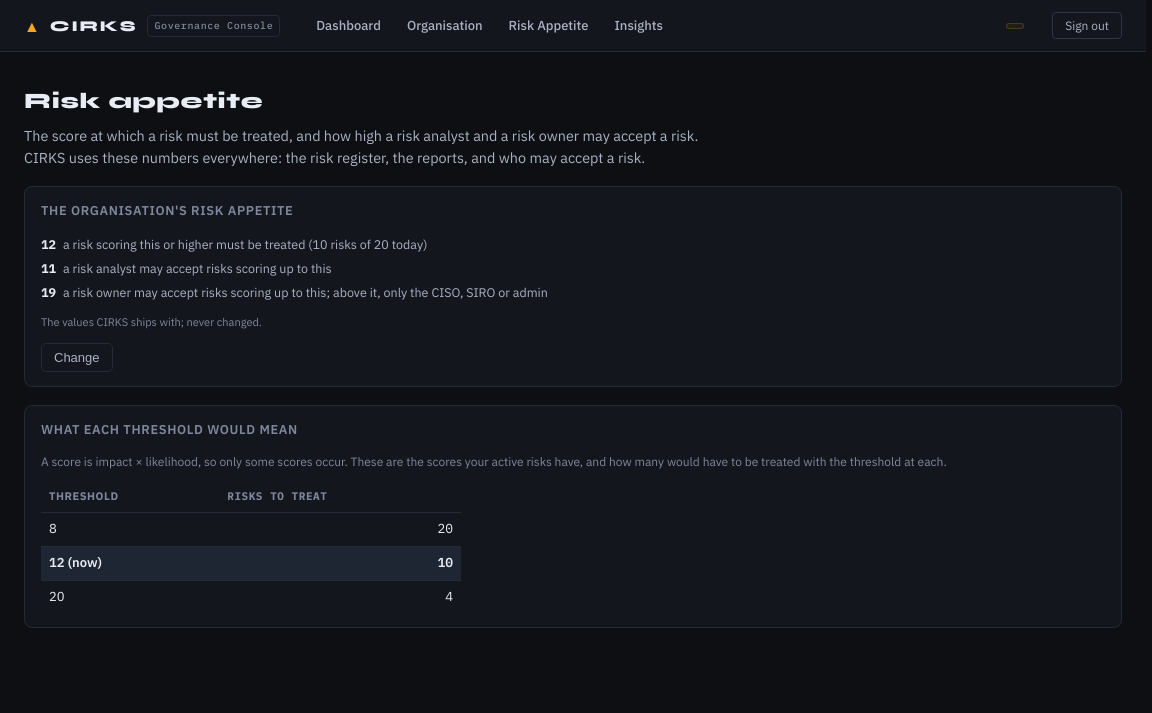
Test case: Risk appetite › says what a new threshold would mean, and warns of risks marked no action required
Click the button "Change" at (77, 358), box left=41, top=344, right=112, bottom=372
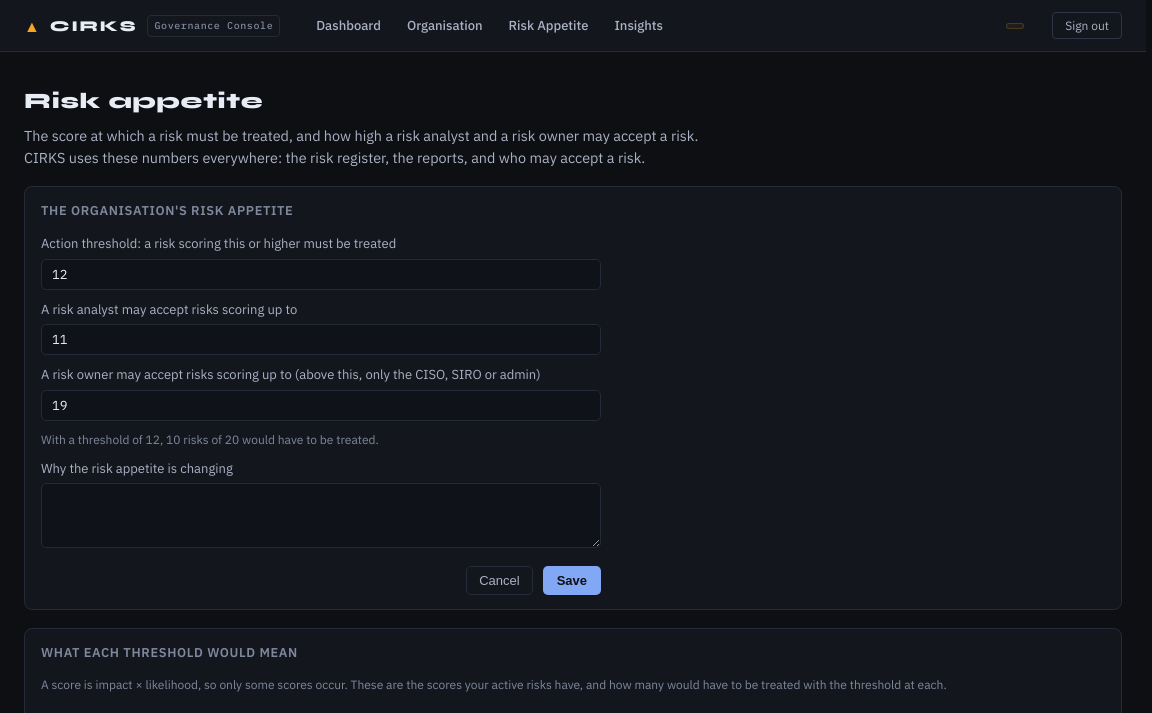
Replace the text in the number field labelled "Action threshold" with "8" at (321, 274), box left=41, top=259, right=601, bottom=290
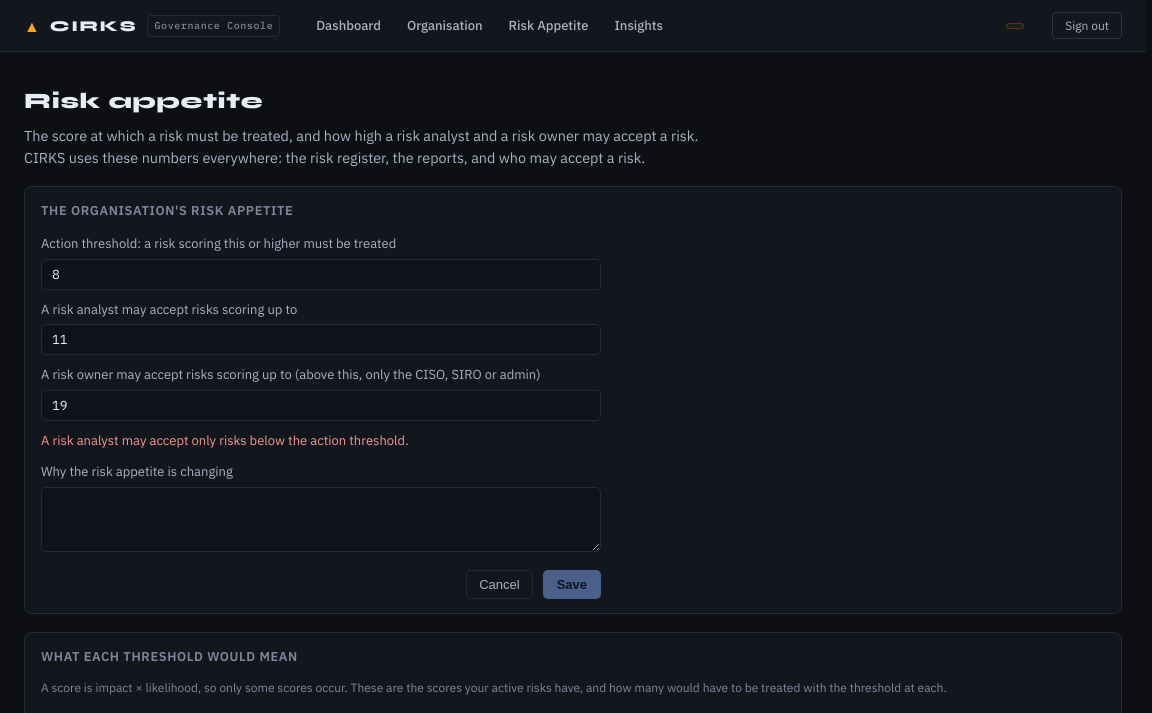
Replace the text in the number field labelled "A risk analyst may accept" with "7" at (321, 340), box left=41, top=324, right=601, bottom=356
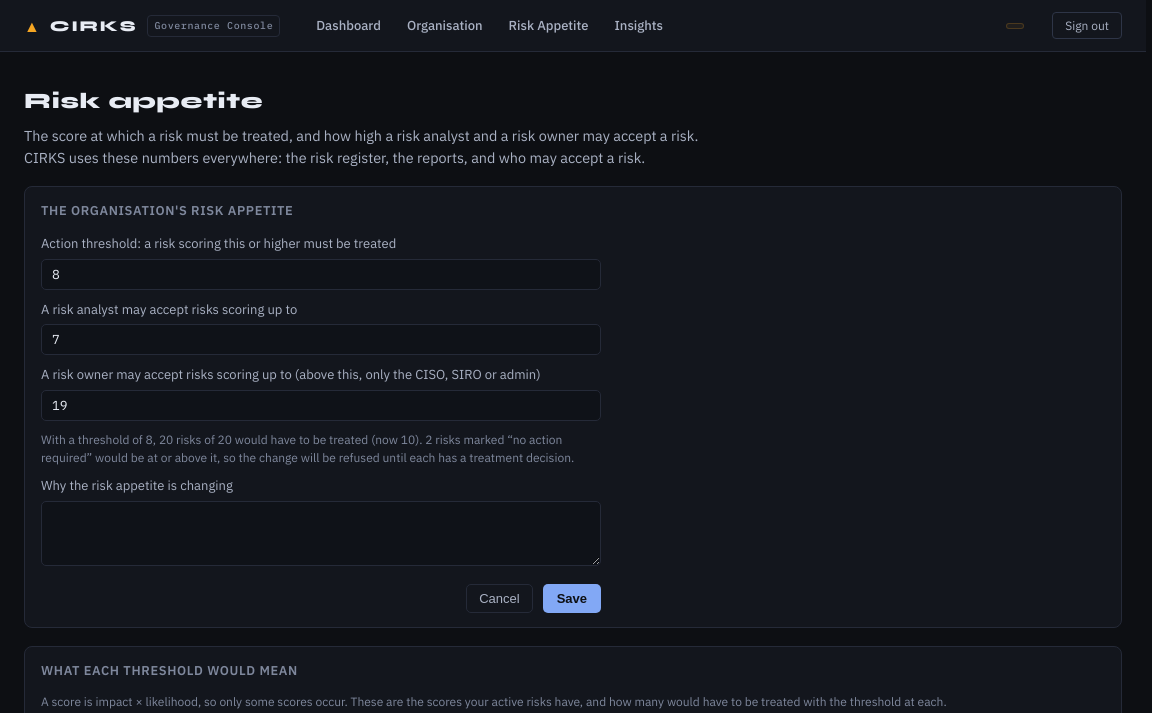
Check: the text "2 risks marked .no action required. would be at or above it" is shown, box left=41, top=431, right=601, bottom=466
